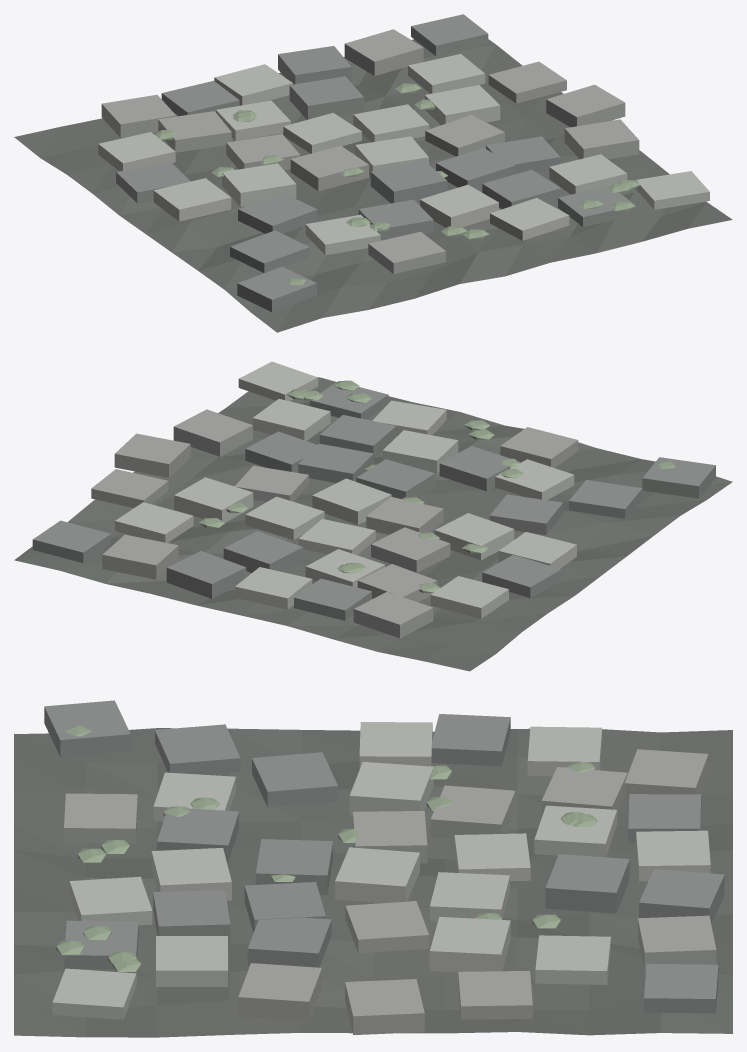
The model's file is vallaki_cracked_cobbles.glb.
3 views of the same model, one above another, from view 1: azimuth 30°, elevation 25°; view 2: azimuth 150°, elevation 25°; view 3: azimuth 270°, elevation 25° (orthographic). The views are drawn at different scales.
Parts seen in each view (by area): view 1: material_00, material_03, material_02, material_01, material_04; view 2: material_00, material_03, material_02, material_01, material_04; view 3: material_00, material_03, material_02, material_01, material_04.
Part boxes in pixels (x1,y1,x2,y2): material_00: (14, 39, 732, 332); material_03: (98, 54, 709, 255); material_02: (116, 14, 635, 312); material_01: (101, 29, 639, 273); material_04: (154, 83, 640, 285); material_00: (14, 377, 732, 671); material_03: (115, 361, 576, 618); material_02: (32, 381, 715, 620); material_01: (91, 409, 578, 638); material_04: (198, 380, 674, 592); material_00: (14, 728, 732, 1037); material_03: (52, 722, 710, 1019); material_02: (44, 700, 724, 1013); material_01: (64, 749, 716, 1034); material_04: (56, 725, 596, 971).
Size of the model in its own units: 3.13 by 0.1754 by 3.
